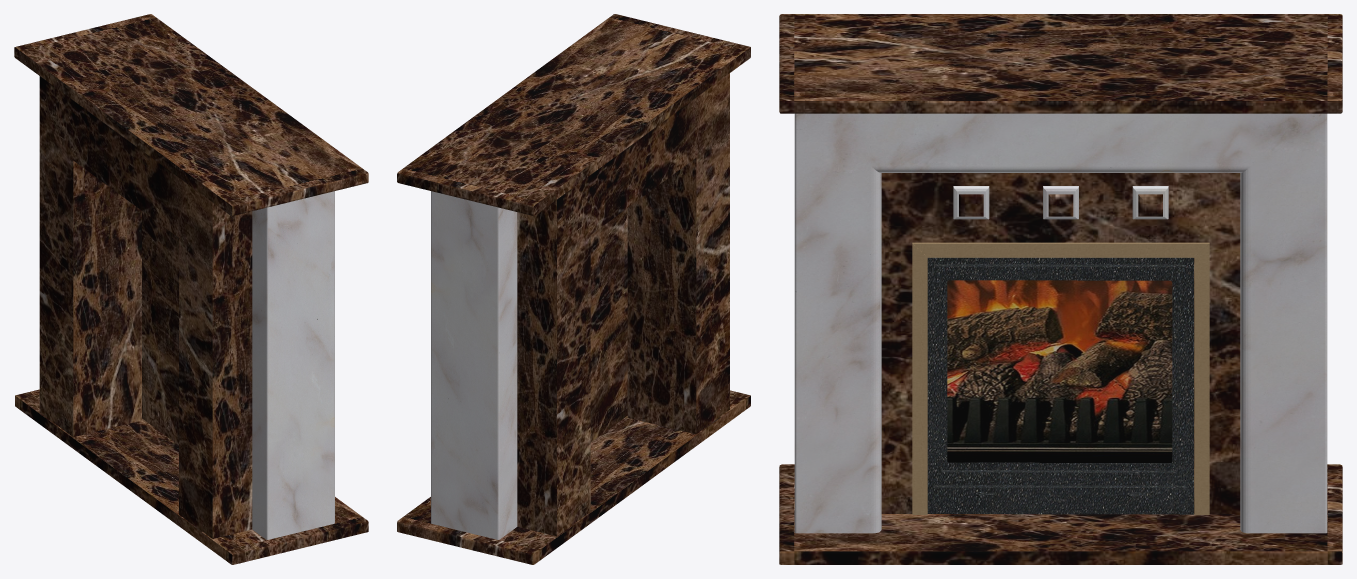
Rendered from fireplace2.glb.
The picture shows the model from 3 angles, left to right: view 1: azimuth 30°, elevation 25°; view 2: azimuth 150°, elevation 25°; view 3: azimuth 270°, elevation 25°; orthographic projection. The views are drawn at different scales.
Visible parts, largest first — view 1: fireplace2; view 2: fireplace2; view 3: fireplace2.
Part boxes in pixels (bbox=[...]): fireplace2: bbox=[14, 14, 368, 564]; fireplace2: bbox=[397, 14, 750, 564]; fireplace2: bbox=[779, 14, 1342, 564].
Size of the model in its own units: 4000 by 10000 by 11000.
Materials: 6 (6 with a texture image).
